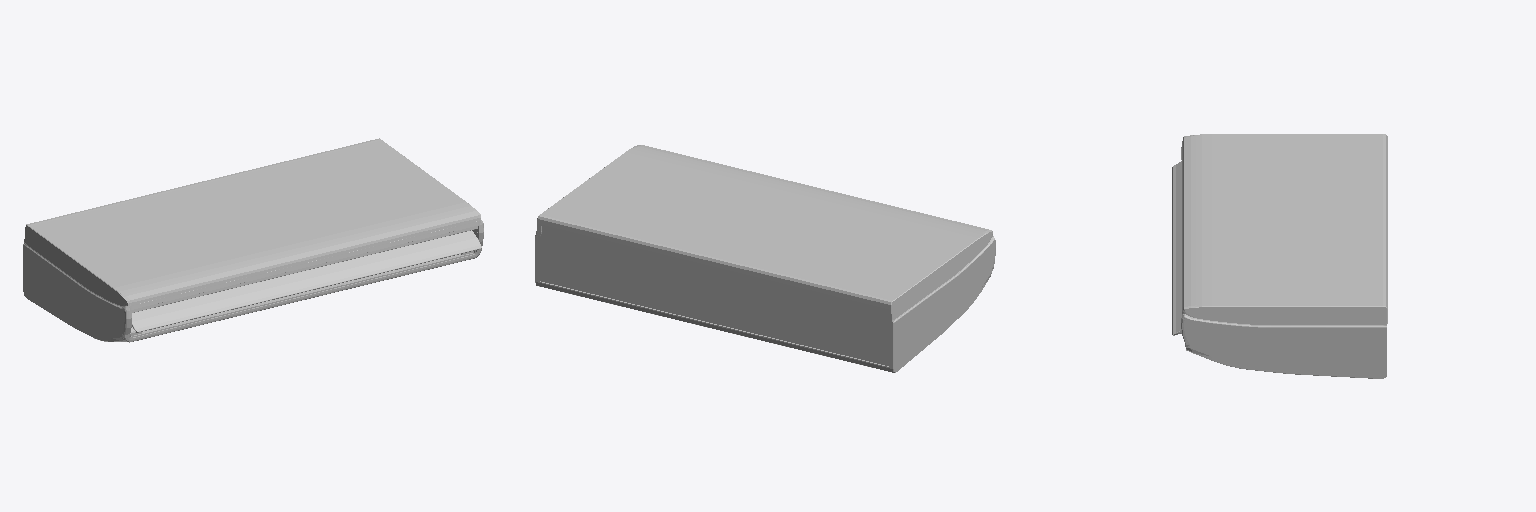
Rendered from aireAcondicionado.obj.
3 renders of one model, left to right at view 1: azimuth 30°, elevation 25°; view 2: azimuth 150°, elevation 25°; view 3: azimuth 270°, elevation 25°, orthographic.
Parts seen in each view (by area): view 1: Aire_Acondicionado_-_Rafael_Blanco; view 2: Aire_Acondicionado_-_Rafael_Blanco; view 3: Aire_Acondicionado_-_Rafael_Blanco.
Boxes of the visible parts, box(x1,y1,x2,y2) form: Aire_Acondicionado_-_Rafael_Blanco: box(23, 138, 483, 342); Aire_Acondicionado_-_Rafael_Blanco: box(535, 145, 995, 372); Aire_Acondicionado_-_Rafael_Blanco: box(1172, 134, 1387, 378).
Bounding box in the file's own units: 12.98 × 2.49 × 6.74.